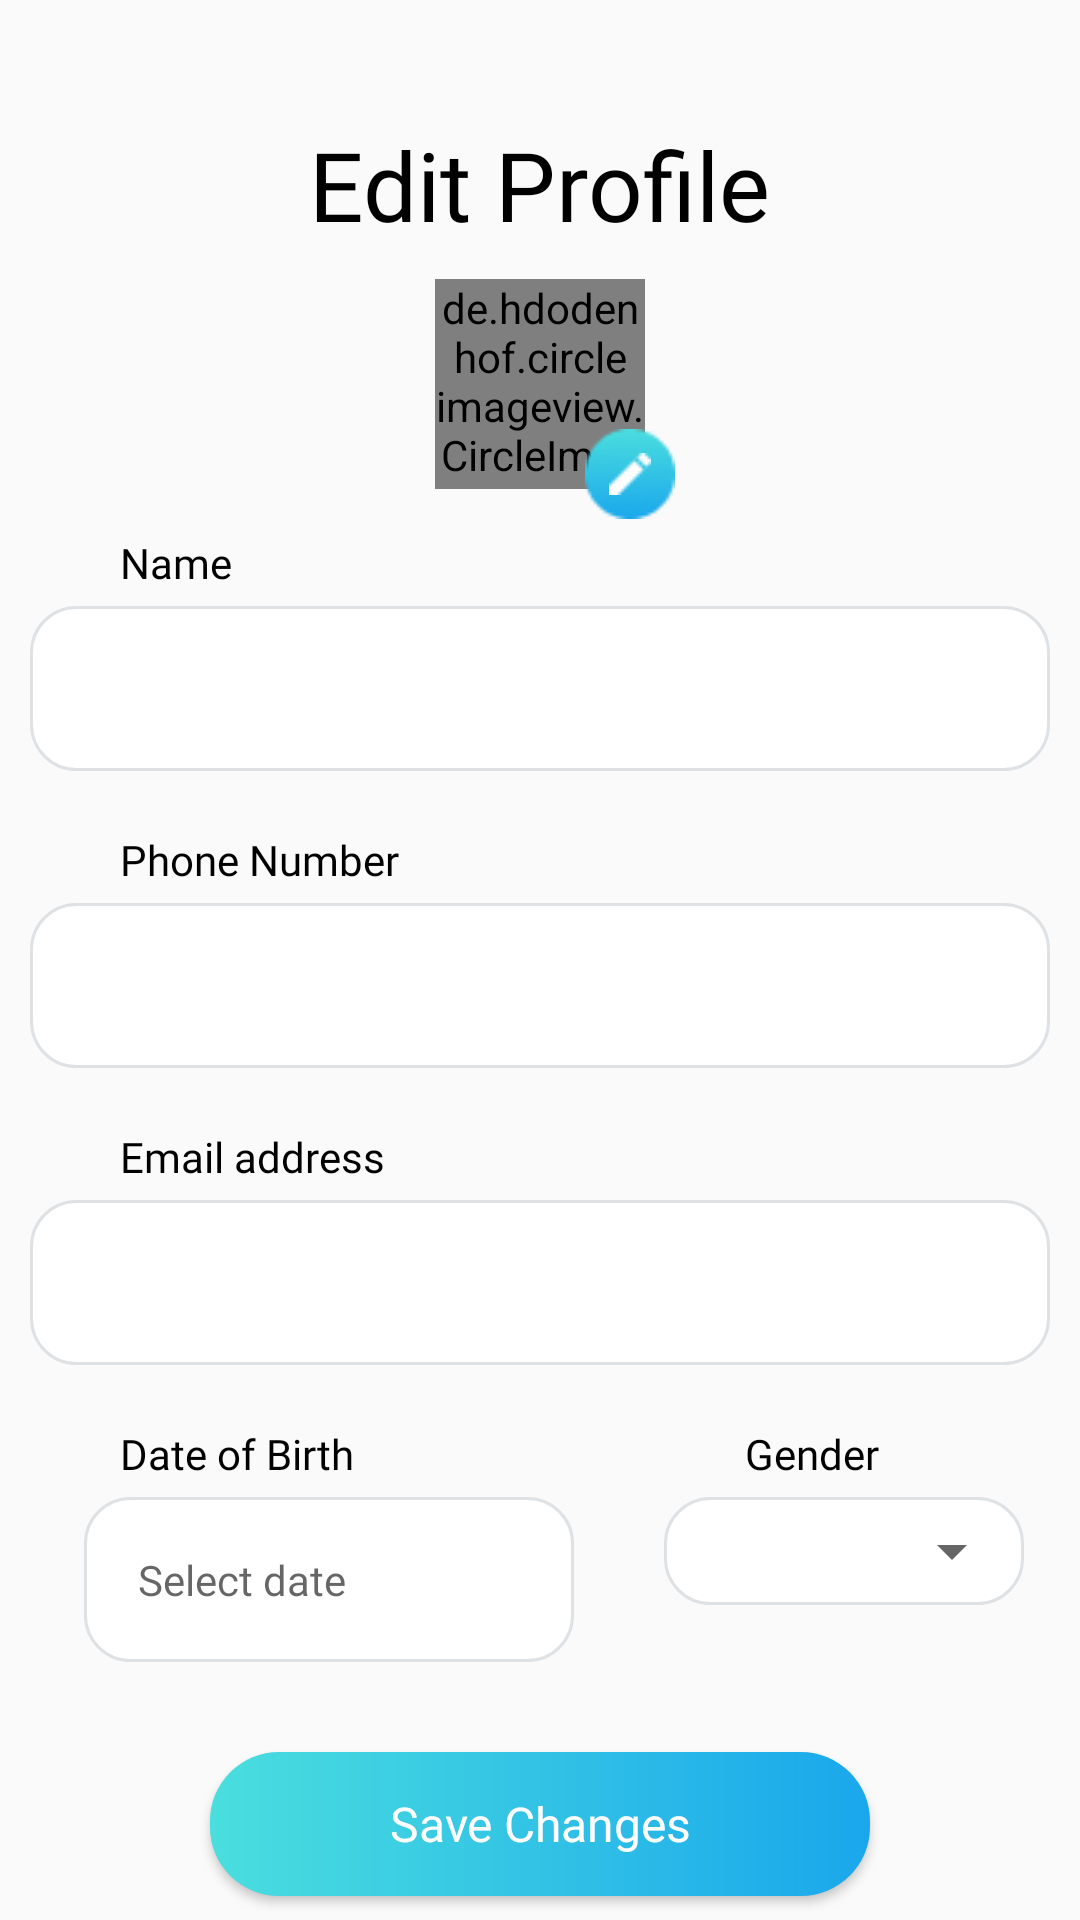

Screen size 1080w x 1920h. Icon name, then its box in pixels as [left=x1, top=y1, right=x2, bottom=y2]:
edit pen: [left=609, top=453, right=651, bottom=495]
